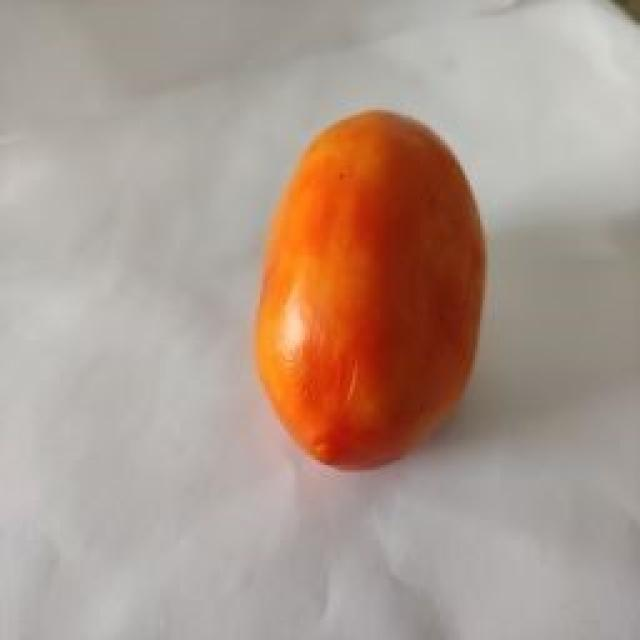Ripe: (260, 111, 488, 473)
